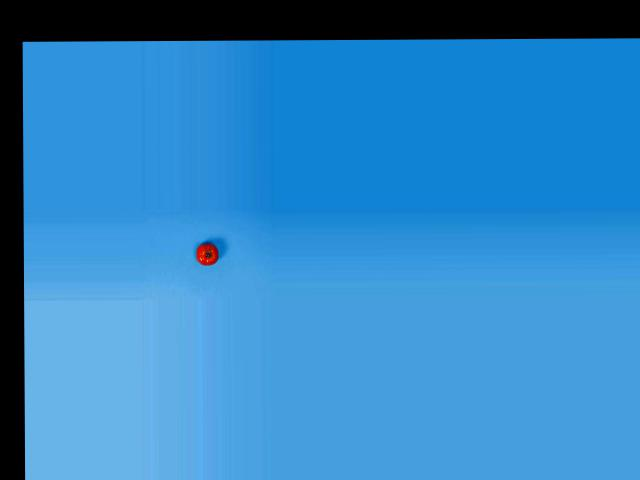tomato: (196, 243, 219, 265)
